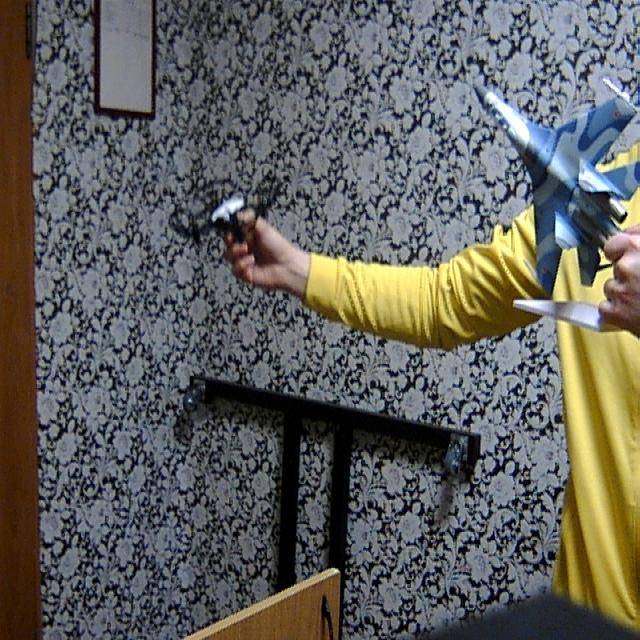drone: (158, 148, 296, 262)
